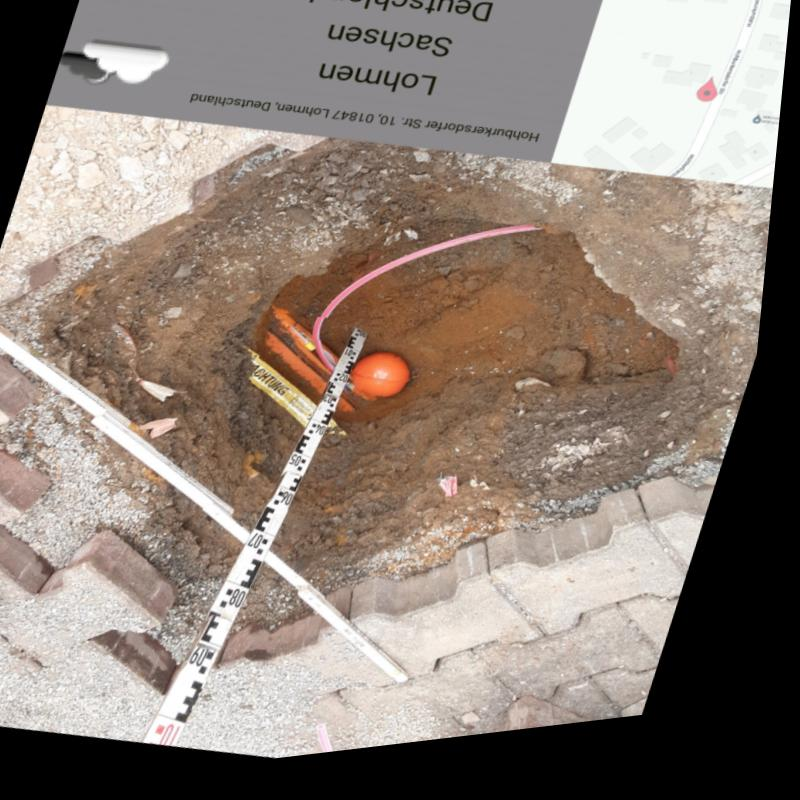Kugelmarker: (361, 363, 418, 407)
Orang-Speednetrohrchen: (271, 319, 366, 421)
